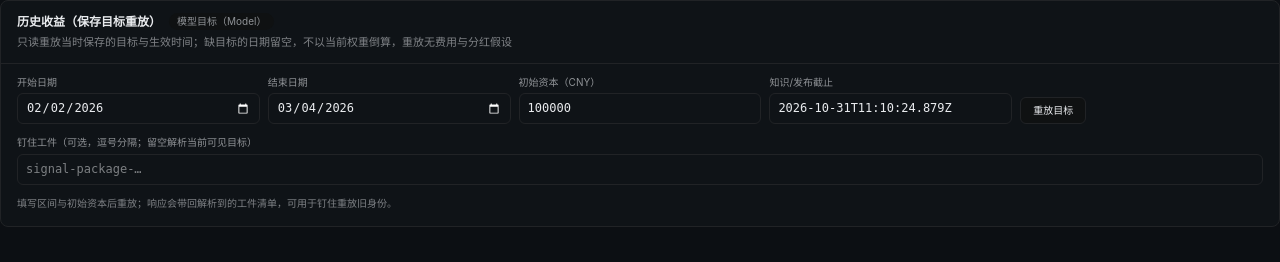
it: ModelHistoryPanel › renders an error with retry when the replay fails
Click the button "重放目标": (1053, 111) [1020,97,1086,124]
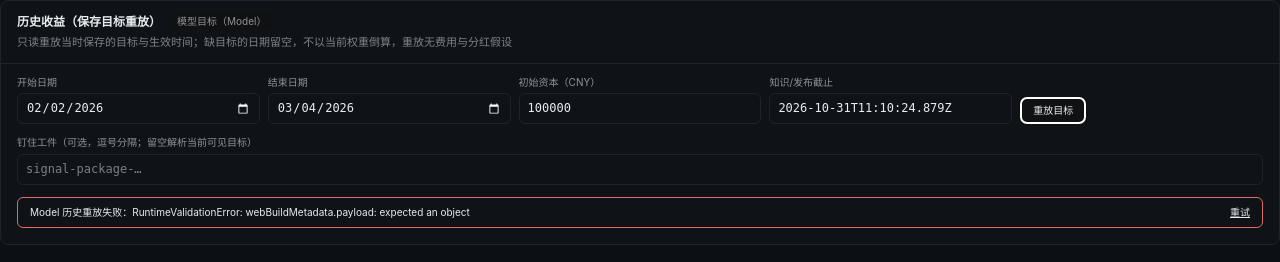
Result: the message shows "Model 历史重放失败" at [30,206,132,218]
Result: the button "重试" is shown at [1230,206,1250,219]
